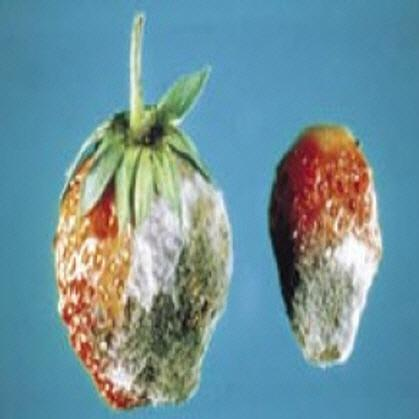Gray Mold: (53, 146, 234, 409), (269, 144, 383, 369)
